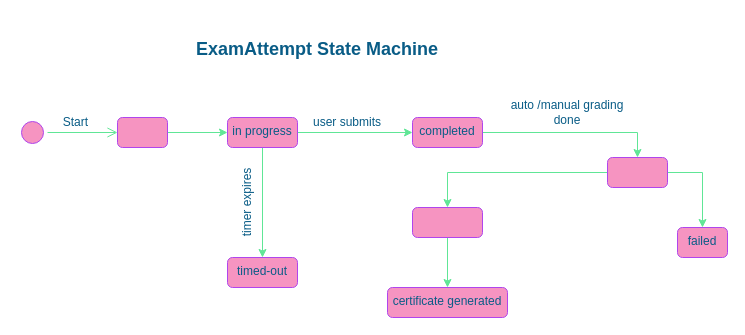
Some shapes in this 745 by 335 pixel diagram are drawn without their labels. The centre of each missing label's shape, as x and y in pixels:
created: the point at 142,132
graded: the point at 637,172
passed: the point at 447,222
